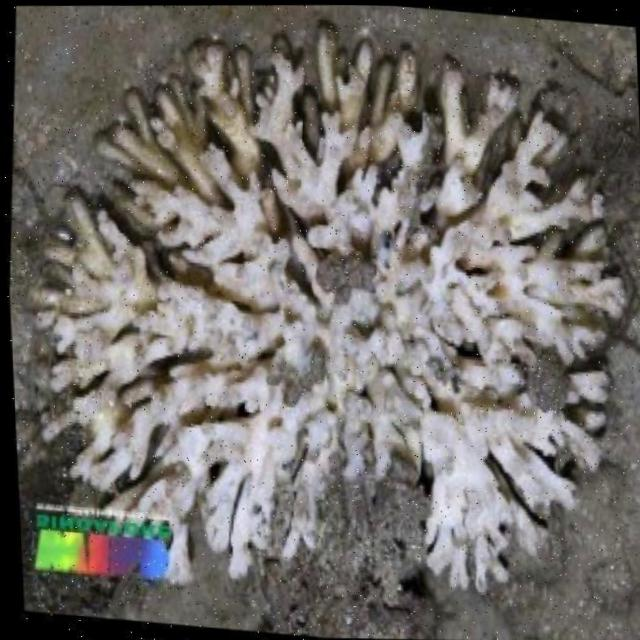Bleached Coral: (0, 0, 640, 617)
